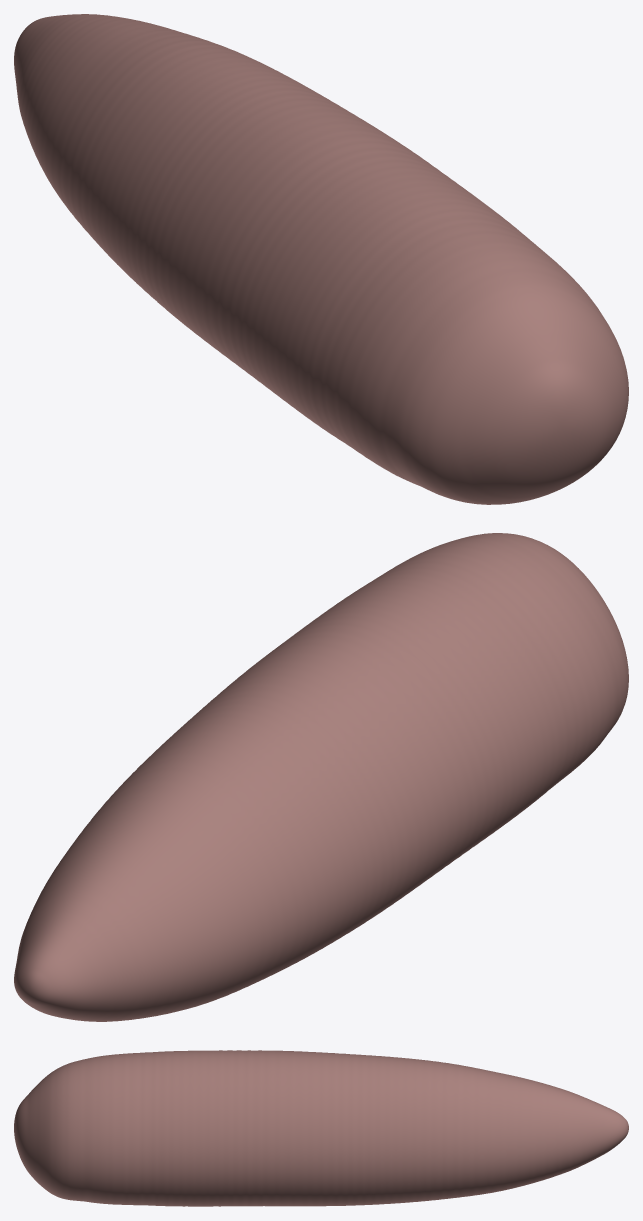
File: worm.glb
The picture shows the model from 3 angles, top to bottom: view 1: azimuth 30°, elevation 25°; view 2: azimuth 150°, elevation 25°; view 3: azimuth 270°, elevation 25°; orthographic projection. The views are drawn at different scales.
Visible parts, largest first — view 1: Continuous shell__asset.001; view 2: Continuous shell__asset.001; view 3: Continuous shell__asset.001.
Boxes of the visible parts, x1=… form: Continuous shell__asset.001: x1=14, y1=14, x2=628, y2=504; Continuous shell__asset.001: x1=14, y1=533, x2=628, y2=1021; Continuous shell__asset.001: x1=14, y1=1050, x2=628, y2=1206.
Size of the model in its own units: 0.0505 by 0.0449 by 0.18.
